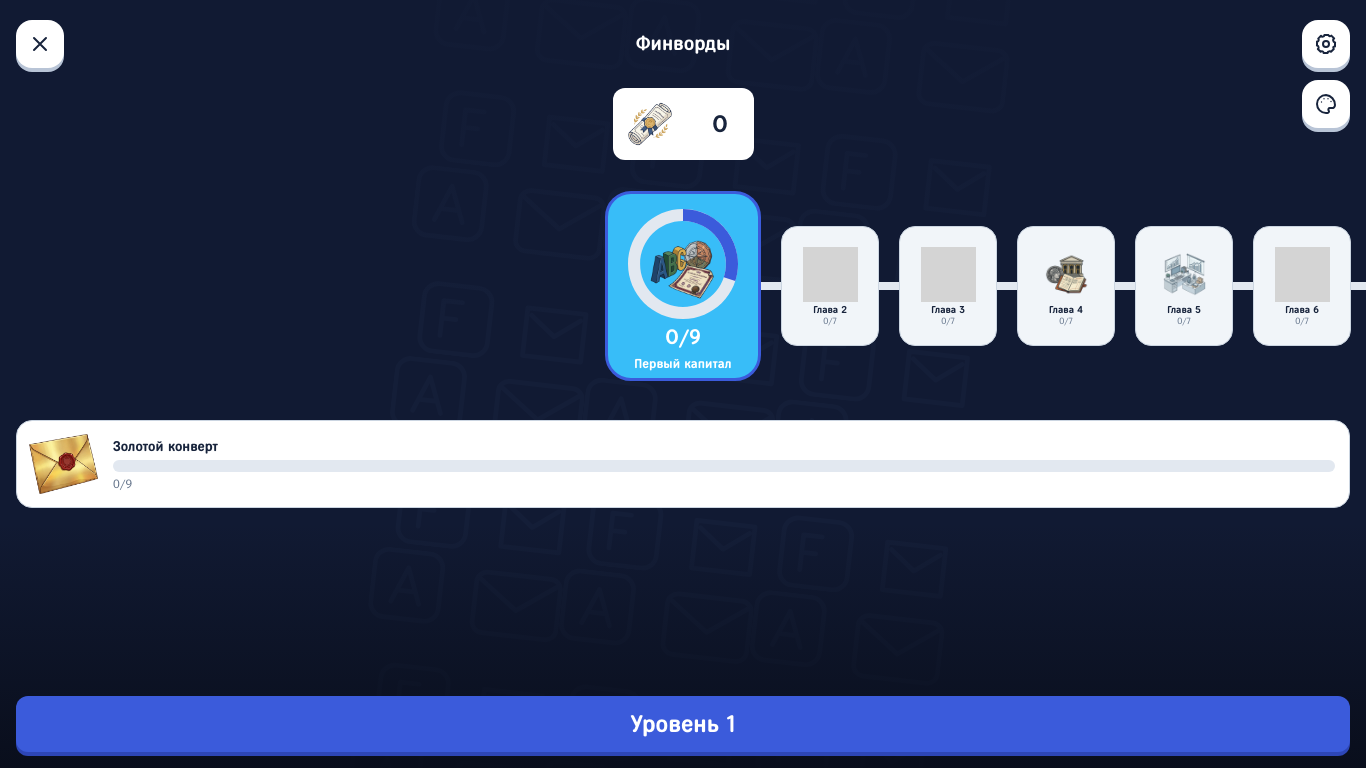
Test: P1 application shell › opens an exit confirmation bottom-sheet when Home close is pressed
Click the button named "Закрыть игру" at (40, 44), box [16,20,64,68]
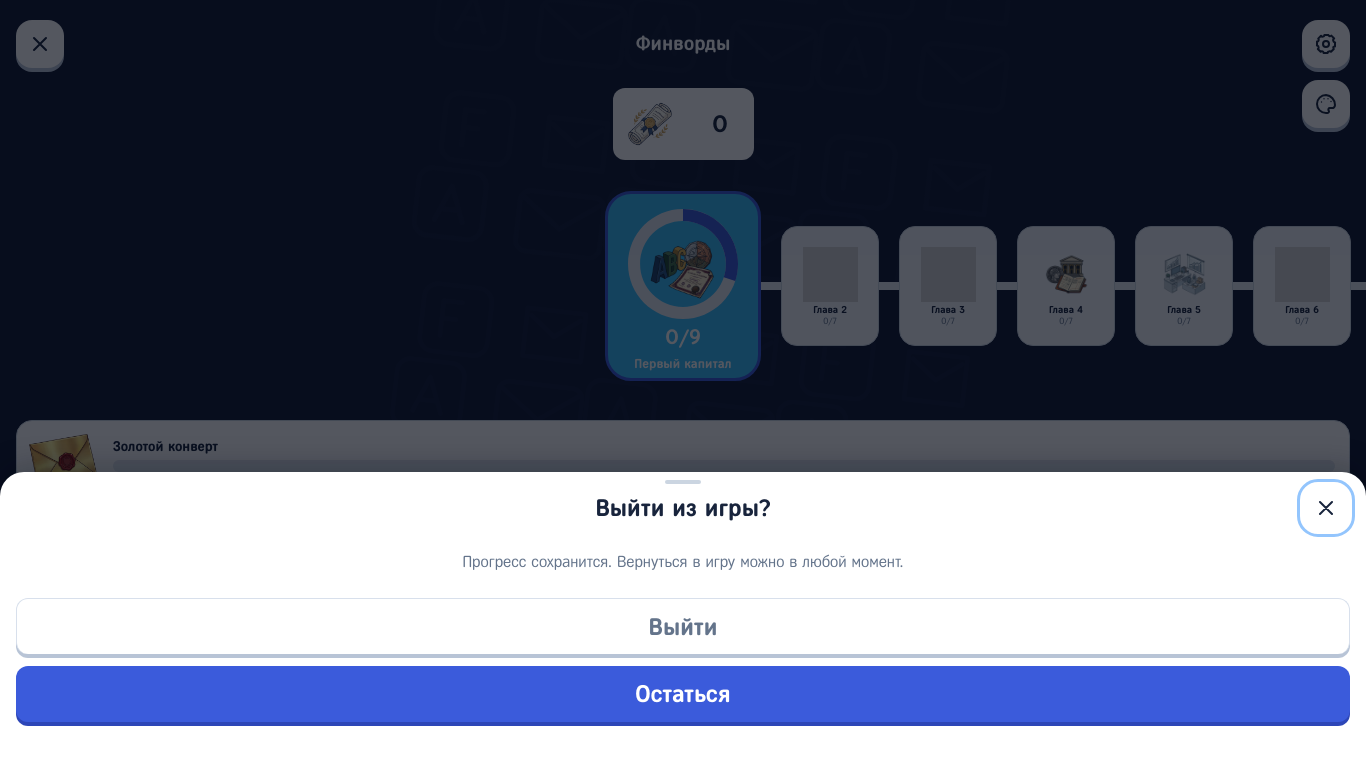
Check: the dialog "Выйти из игры?" is shown, box [0,472,1365,767]
Check: the dialog "Выйти из игры?" shows "Прогресс сохранится. Вернуться в игру можно в любой момент.", box [462,553,904,570]
Check: the button "Выйти" is shown, box [16,598,1350,654]
